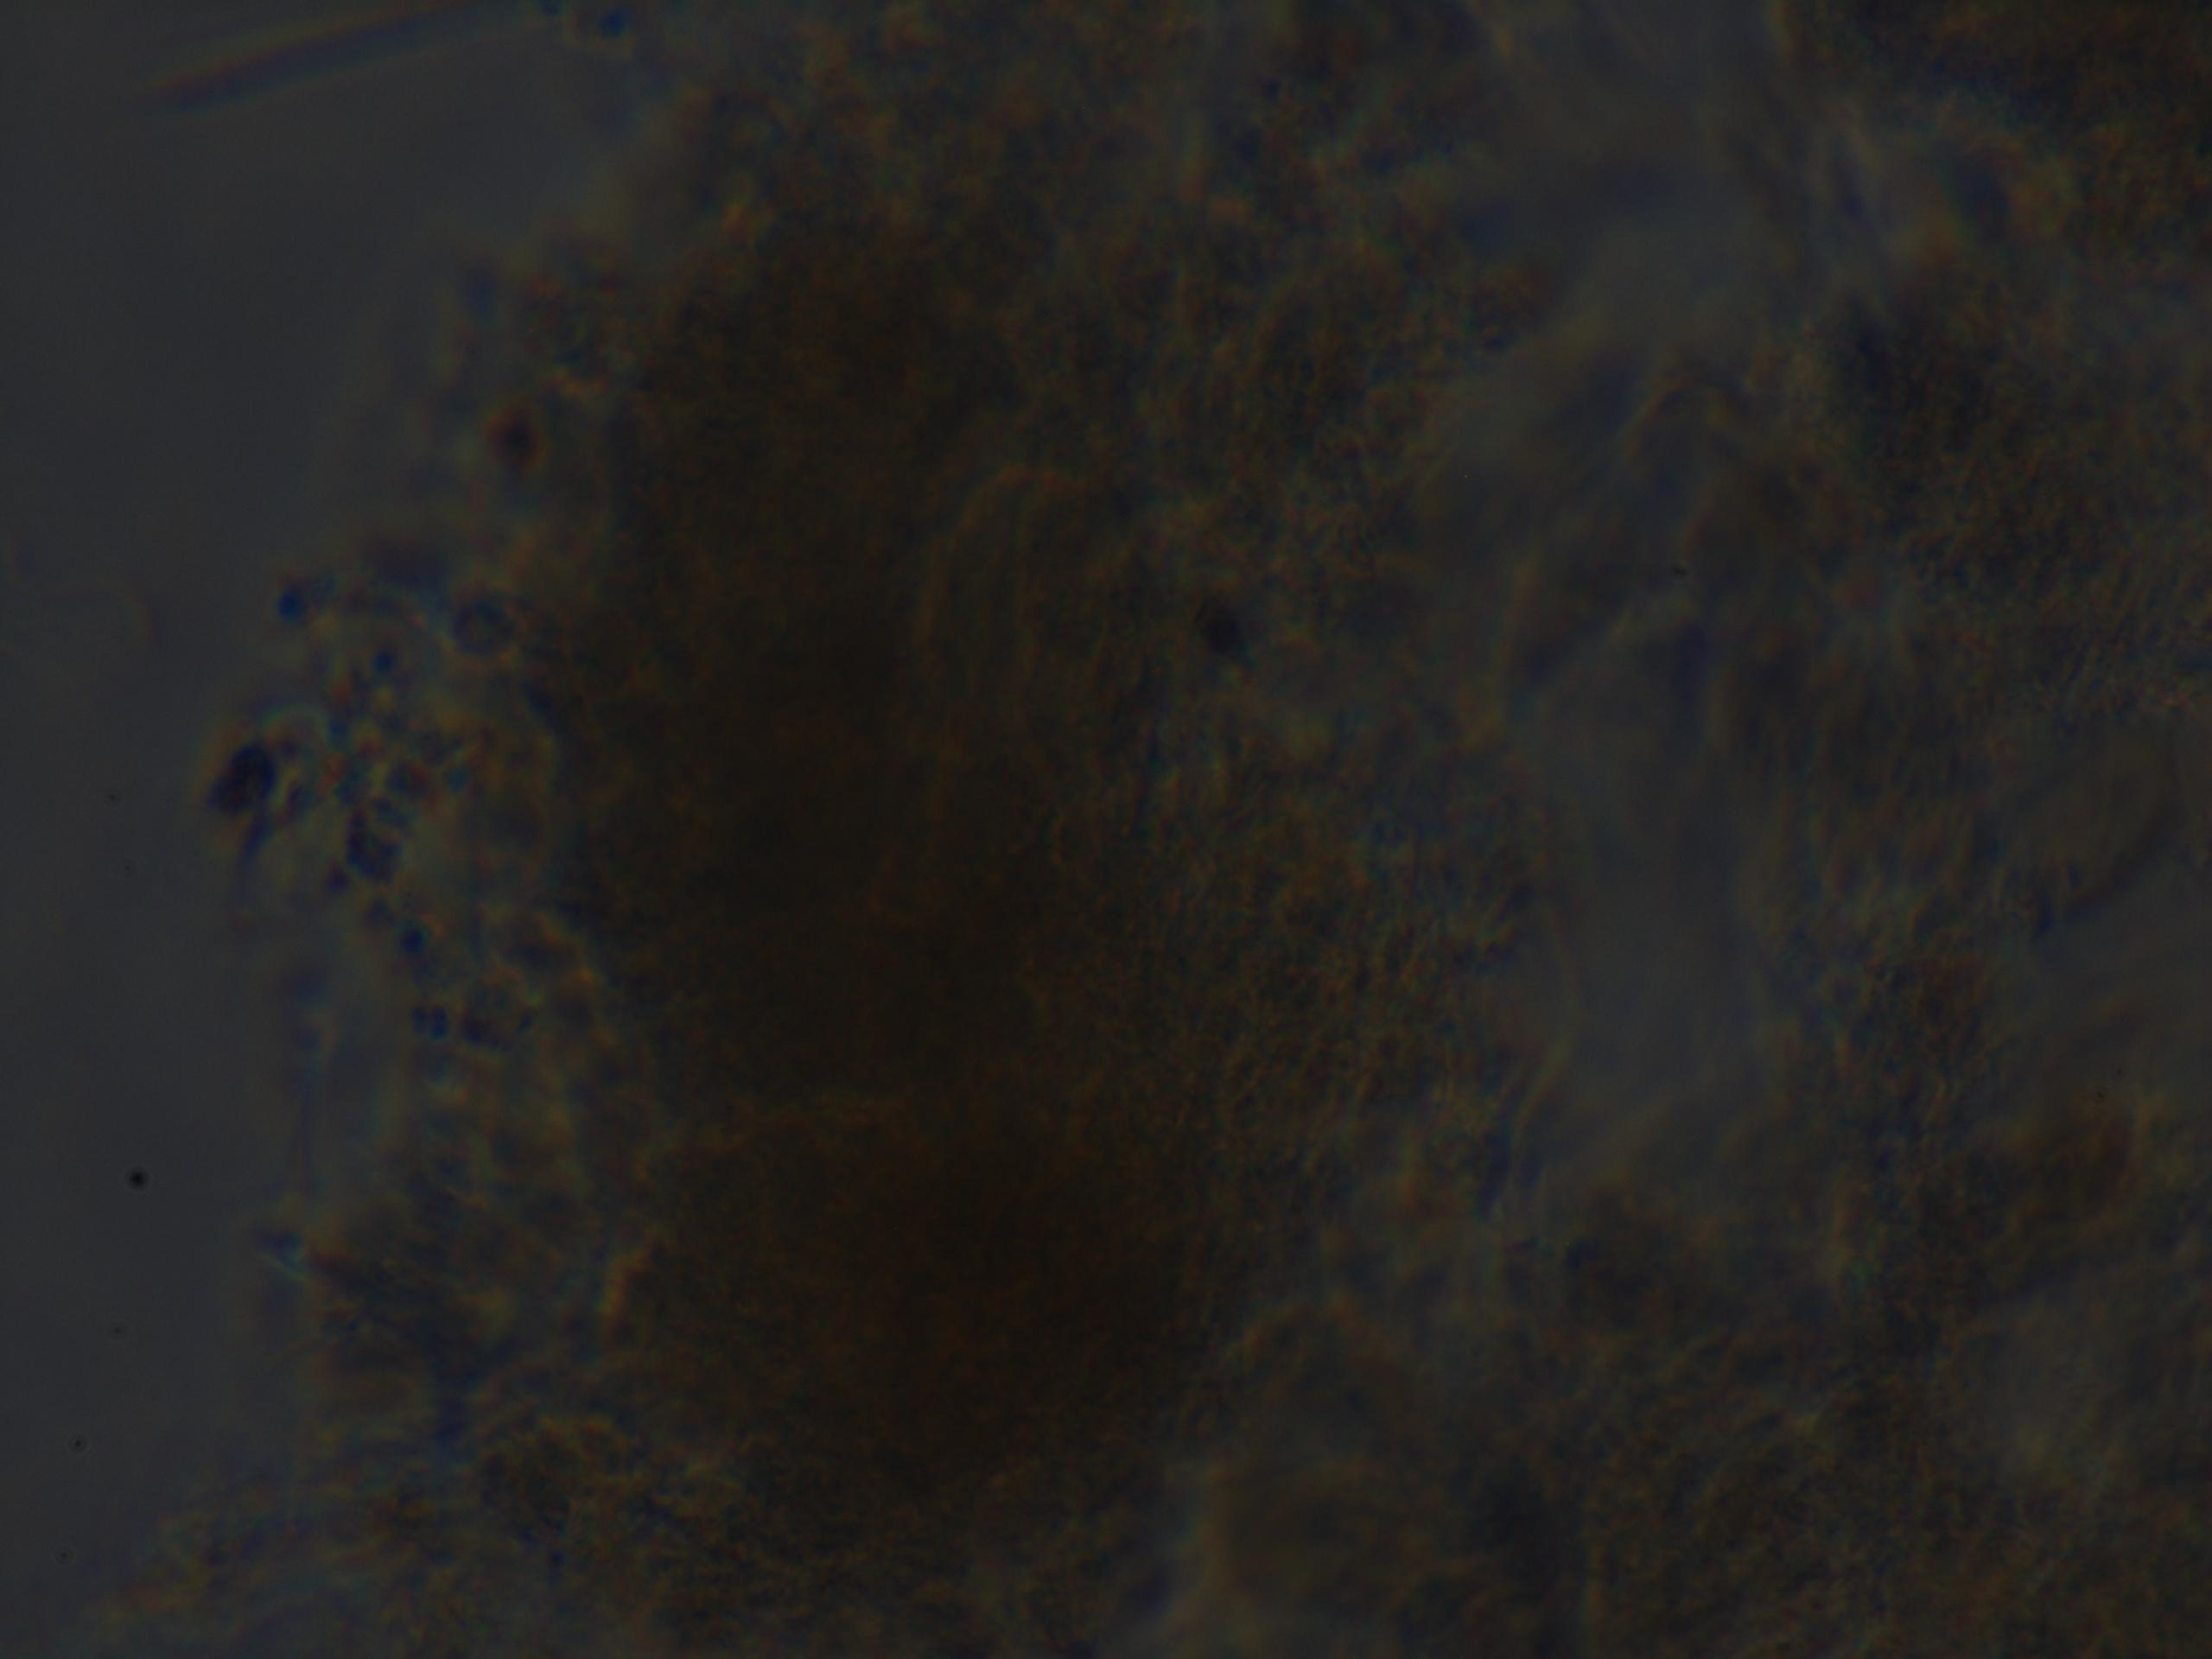spherical_floc: (472, 120, 1372, 1659)
